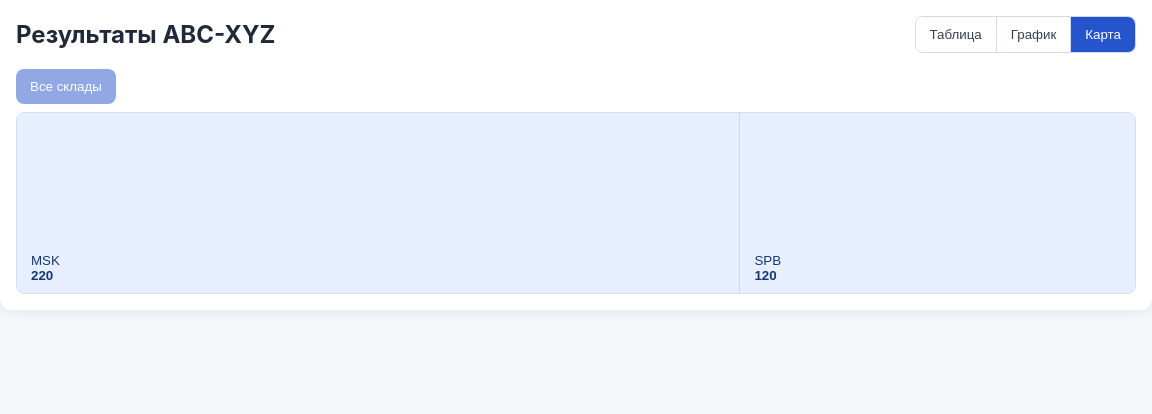
Test: AnalysisWorkspace views › supports map drill-down and tooltip with share/volume
The image size is (1152, 414).
Click the button "MSK 220". click: (45, 260)
box: [17, 113, 740, 293]
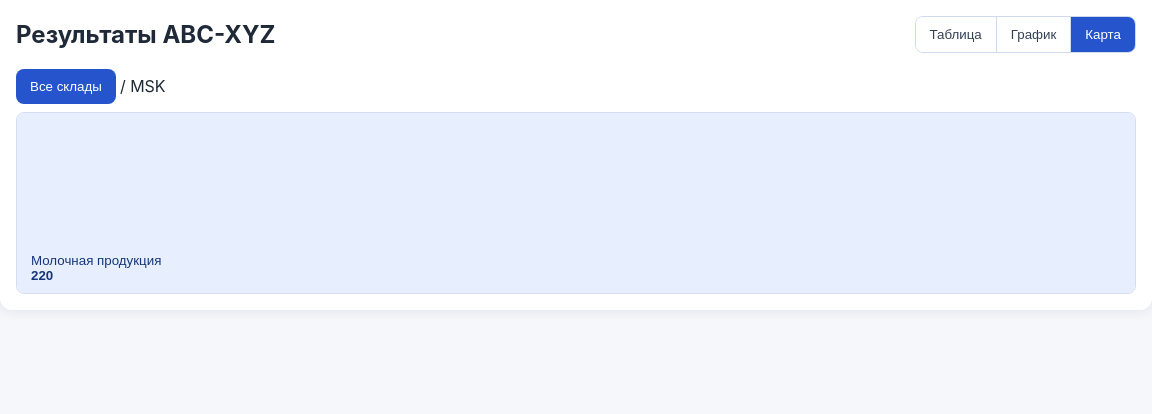
Expected: the text "/ MSK" is shown, [120, 76, 166, 96]
Hover over the button "Молочная продукция 220" at (576, 203), box [17, 113, 1135, 293]
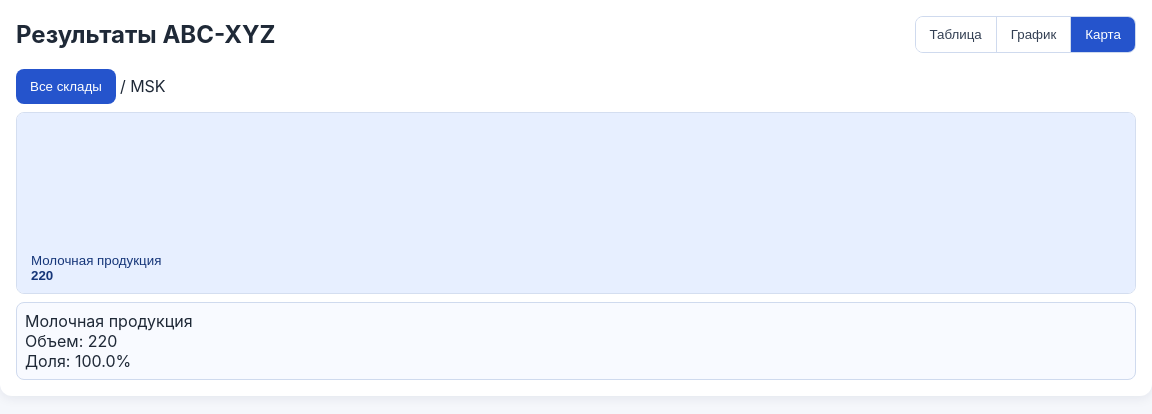
Now the message shows "Объем: 220", box [16, 302, 1136, 380]
Now the message shows "Доля: 100.0%", box [16, 302, 1136, 380]
